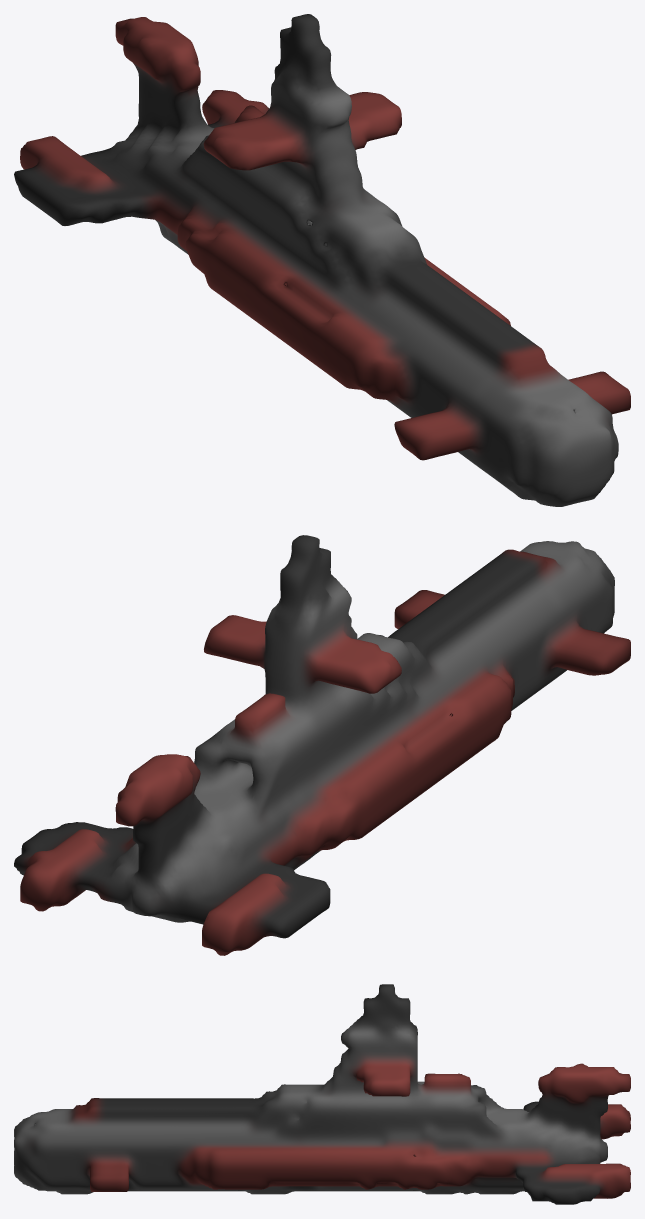
3 views of the same model, one above another, from view 1: azimuth 30°, elevation 25°; view 2: azimuth 150°, elevation 25°; view 3: azimuth 270°, elevation 25° (orthographic). The views are drawn at different scales.
Visible parts, largest first — view 1: sub; view 2: sub; view 3: sub.
Part boxes in pixels (x1,y1,x2,y2): sub: (14, 14, 630, 506); sub: (14, 535, 630, 955); sub: (14, 984, 630, 1204).
Bounding box in the file's own units: 2.36 × 2.42 × 6.75.
